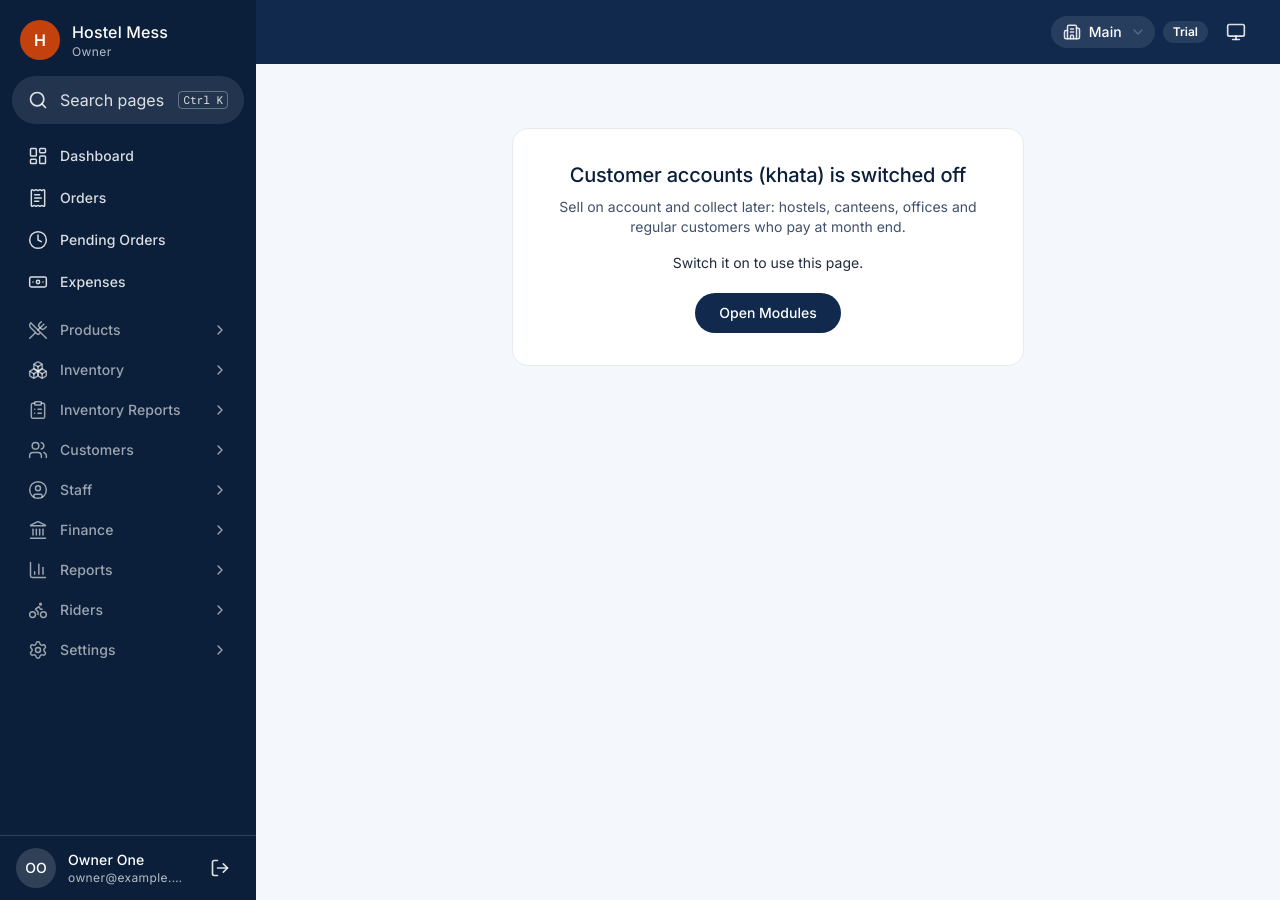
it: AdminShell › explains a switched-off module on the Customer Ledger report and leaves it out of Reports
Check: the heading "Customer accounts (khata) is switched off" is shown, box [545,161,991,189]
Click the button "Reports" at (128, 570), box [12,550,244,590]
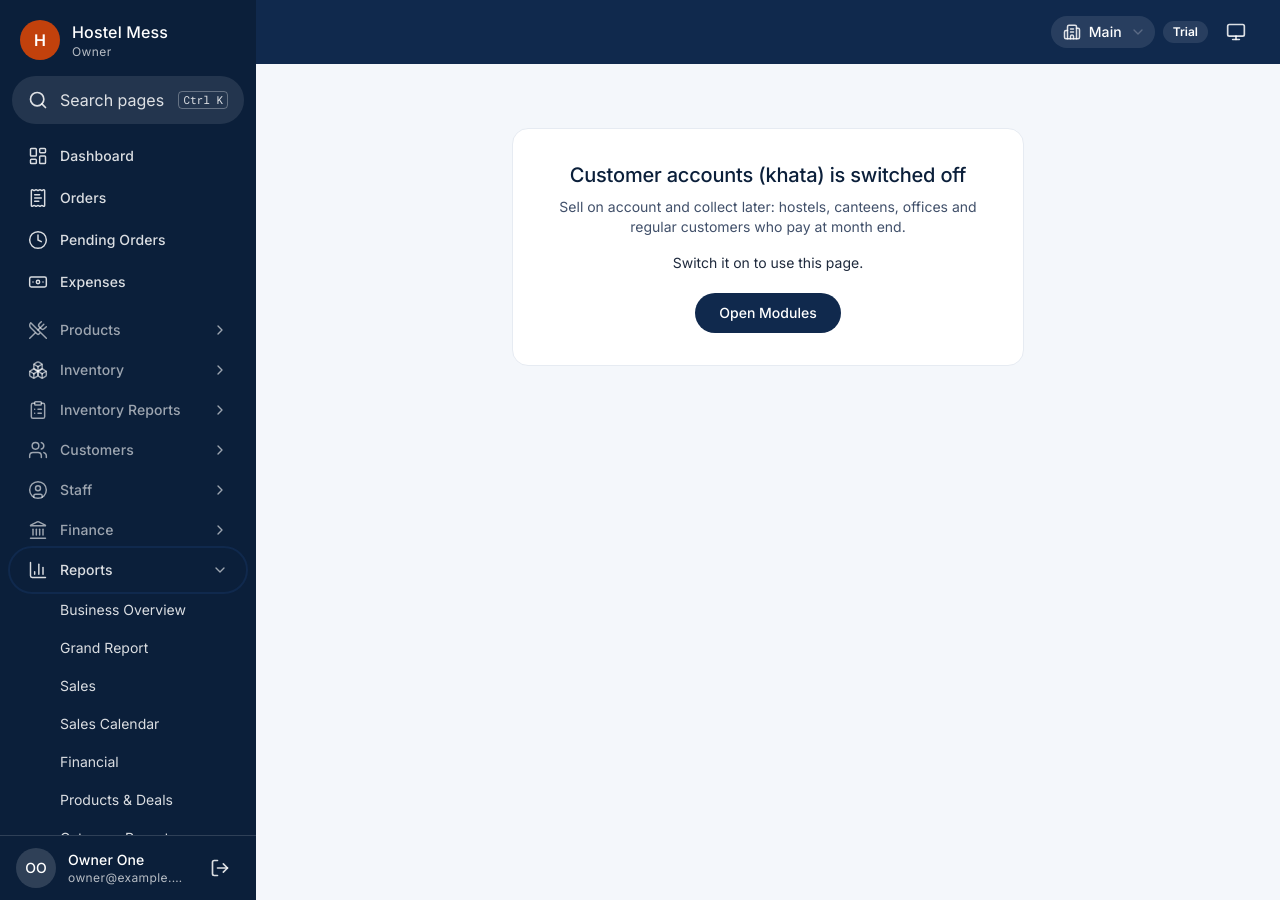
Check: the link "Grand Report" is shown, box [60,639,148,656]
